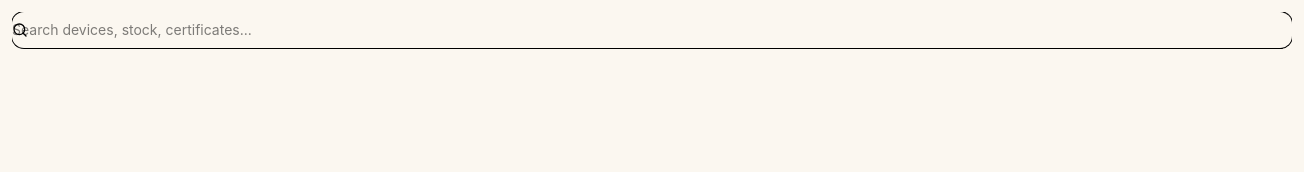
Test: GlobalSearch — A-56 a failed search is not 'no results' › still says 'No results' for a search that succeeded with nothing
The image size is (1304, 172).
In the field named "Global search": (652, 30) [12, 12, 1292, 48], type "pump"
Wait 350 ms
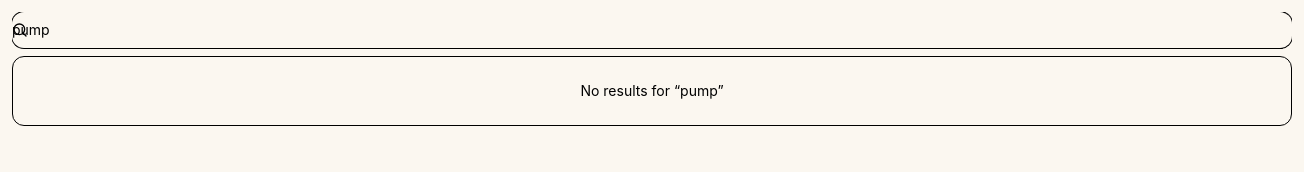
Check: the text "No results for “pump”" is shown, box [580, 82, 724, 99]
